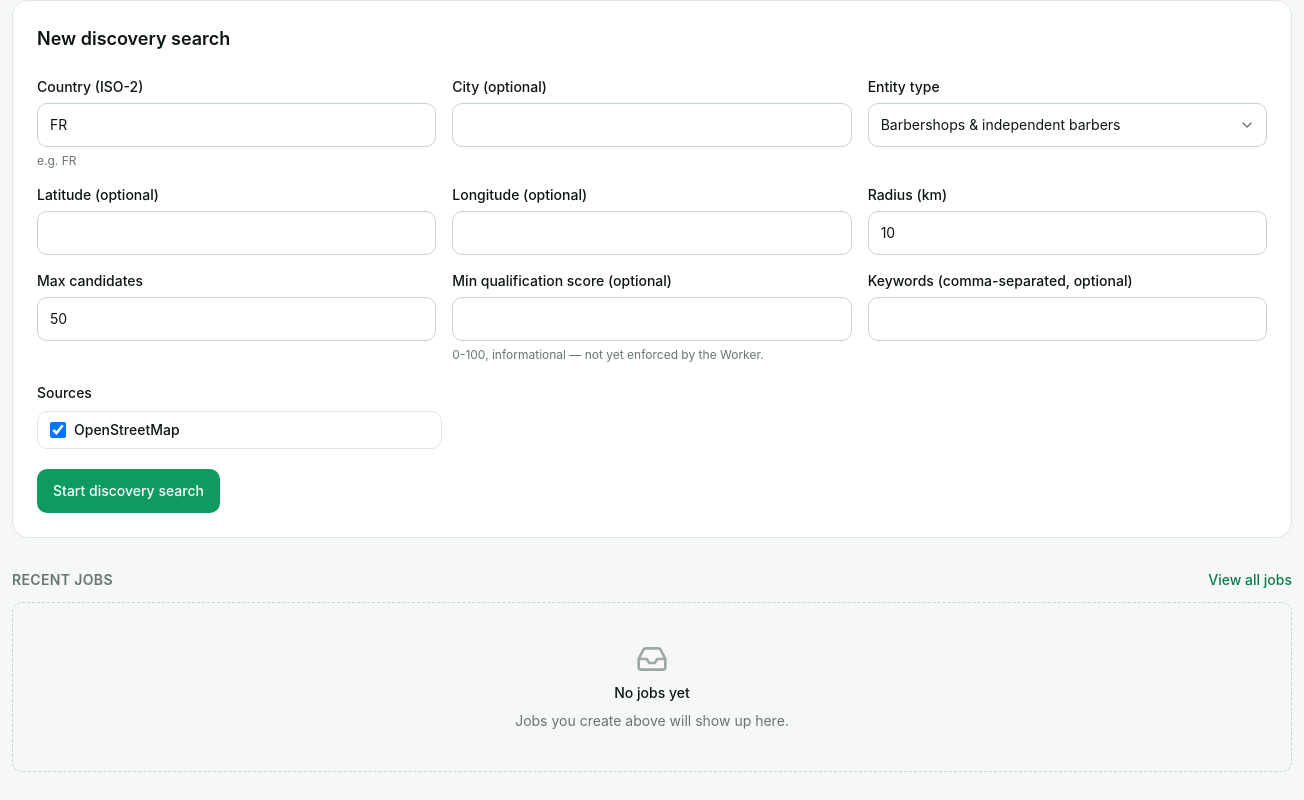
Test: PlatformAcquisitionSearchPage — discovery job creation › creates a discovery job with FR / Paris and shows the success toast even when crypto.randomUUID is unavailable
Type "Paris" into the field labelled "City (optional)".
click(652, 125); type("Paris")  # box [452,103,852,147]
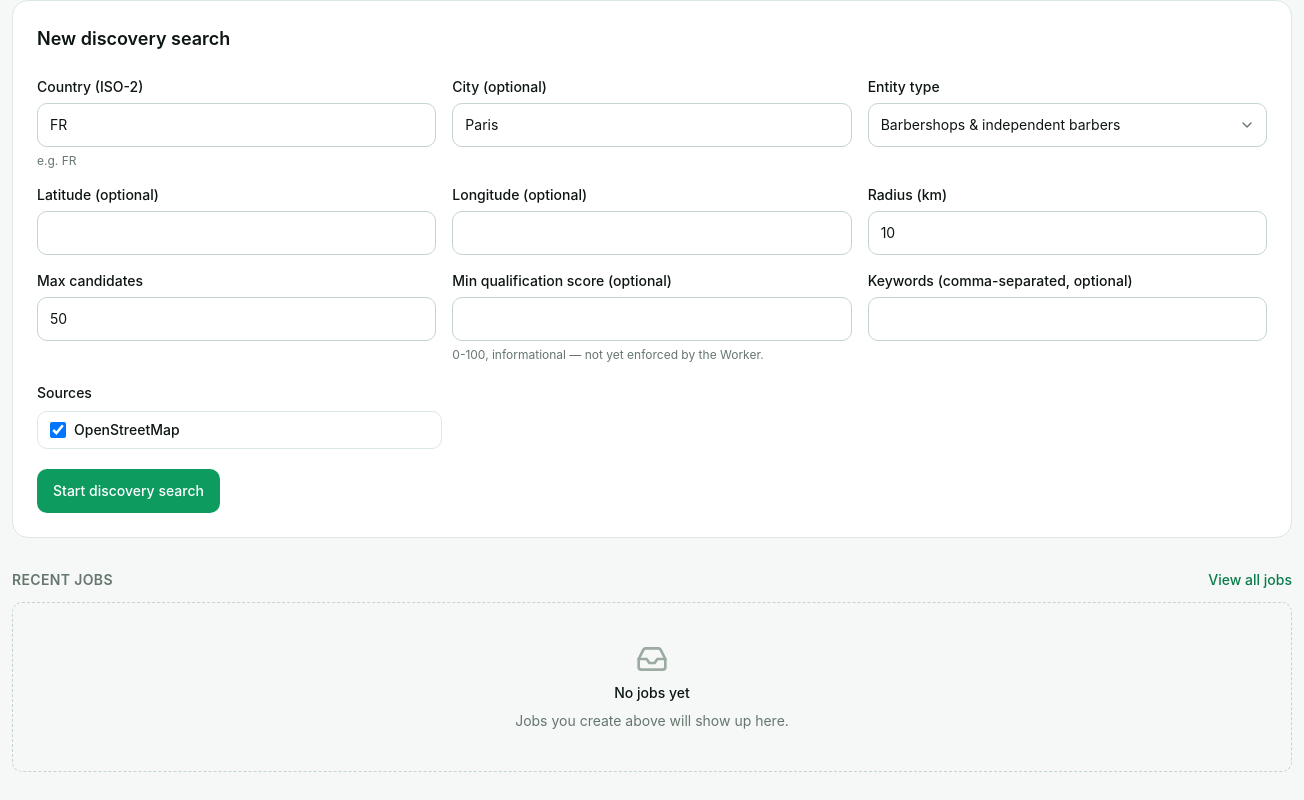
# Country defaults to FR already — submit as-is.
Click the button "Start discovery search".
click(128, 491)  # box [37,469,220,513]
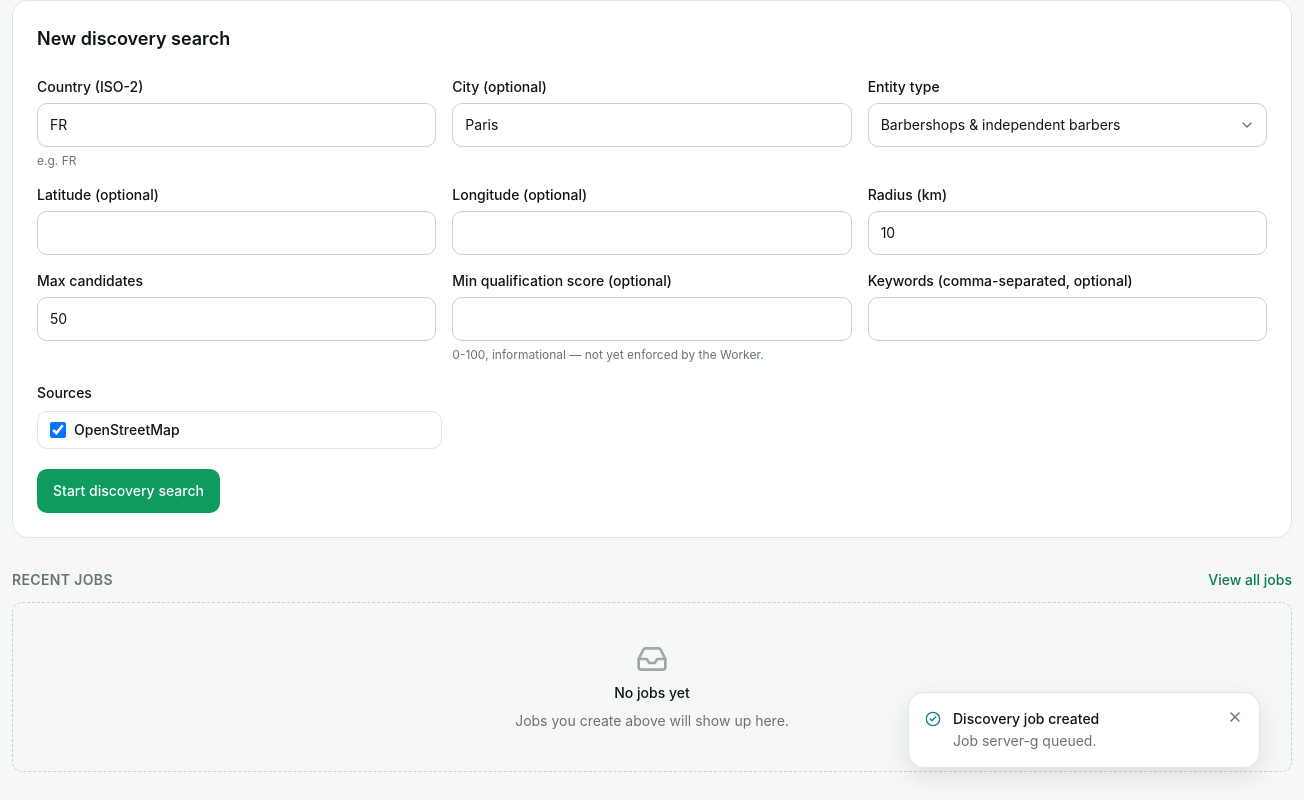
Expected: the text "Discovery job created" is shown, [953,710,1099,727]
